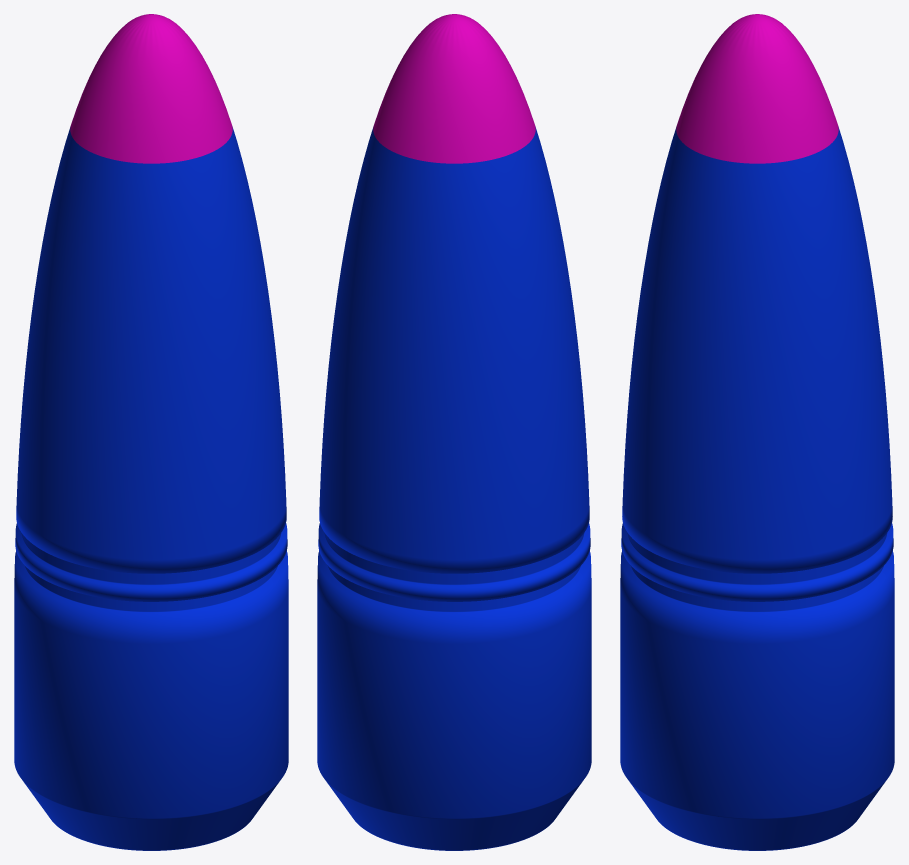
Rendered from Head.fbx.
The picture shows the model from 3 angles, left to right: view 1: azimuth 30°, elevation 25°; view 2: azimuth 150°, elevation 25°; view 3: azimuth 270°, elevation 25°; orthographic projection.
Visible parts, largest first — view 1: Sphere; view 2: Sphere; view 3: Sphere.
Part boxes in pixels (x1,y1,x2,y2): Sphere: [14, 14, 288, 850]; Sphere: [317, 14, 591, 850]; Sphere: [620, 14, 894, 850].
Size of the model in its own units: 150 by 477 by 150.
